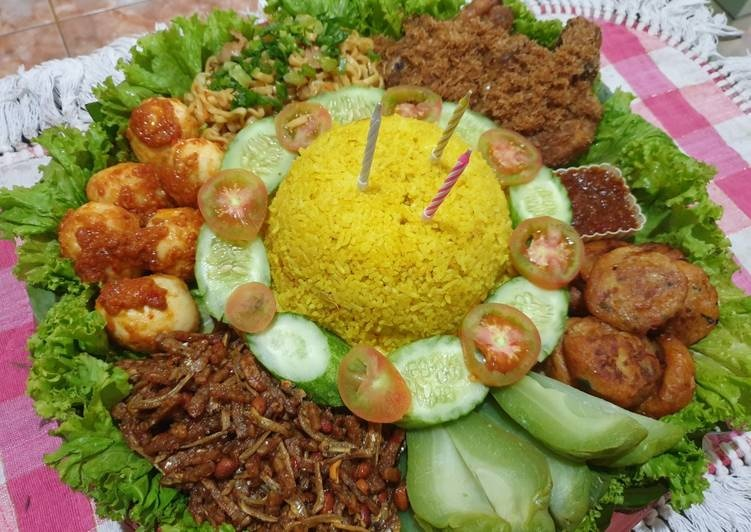nasi_tumpeng: (57, 11, 719, 530)
